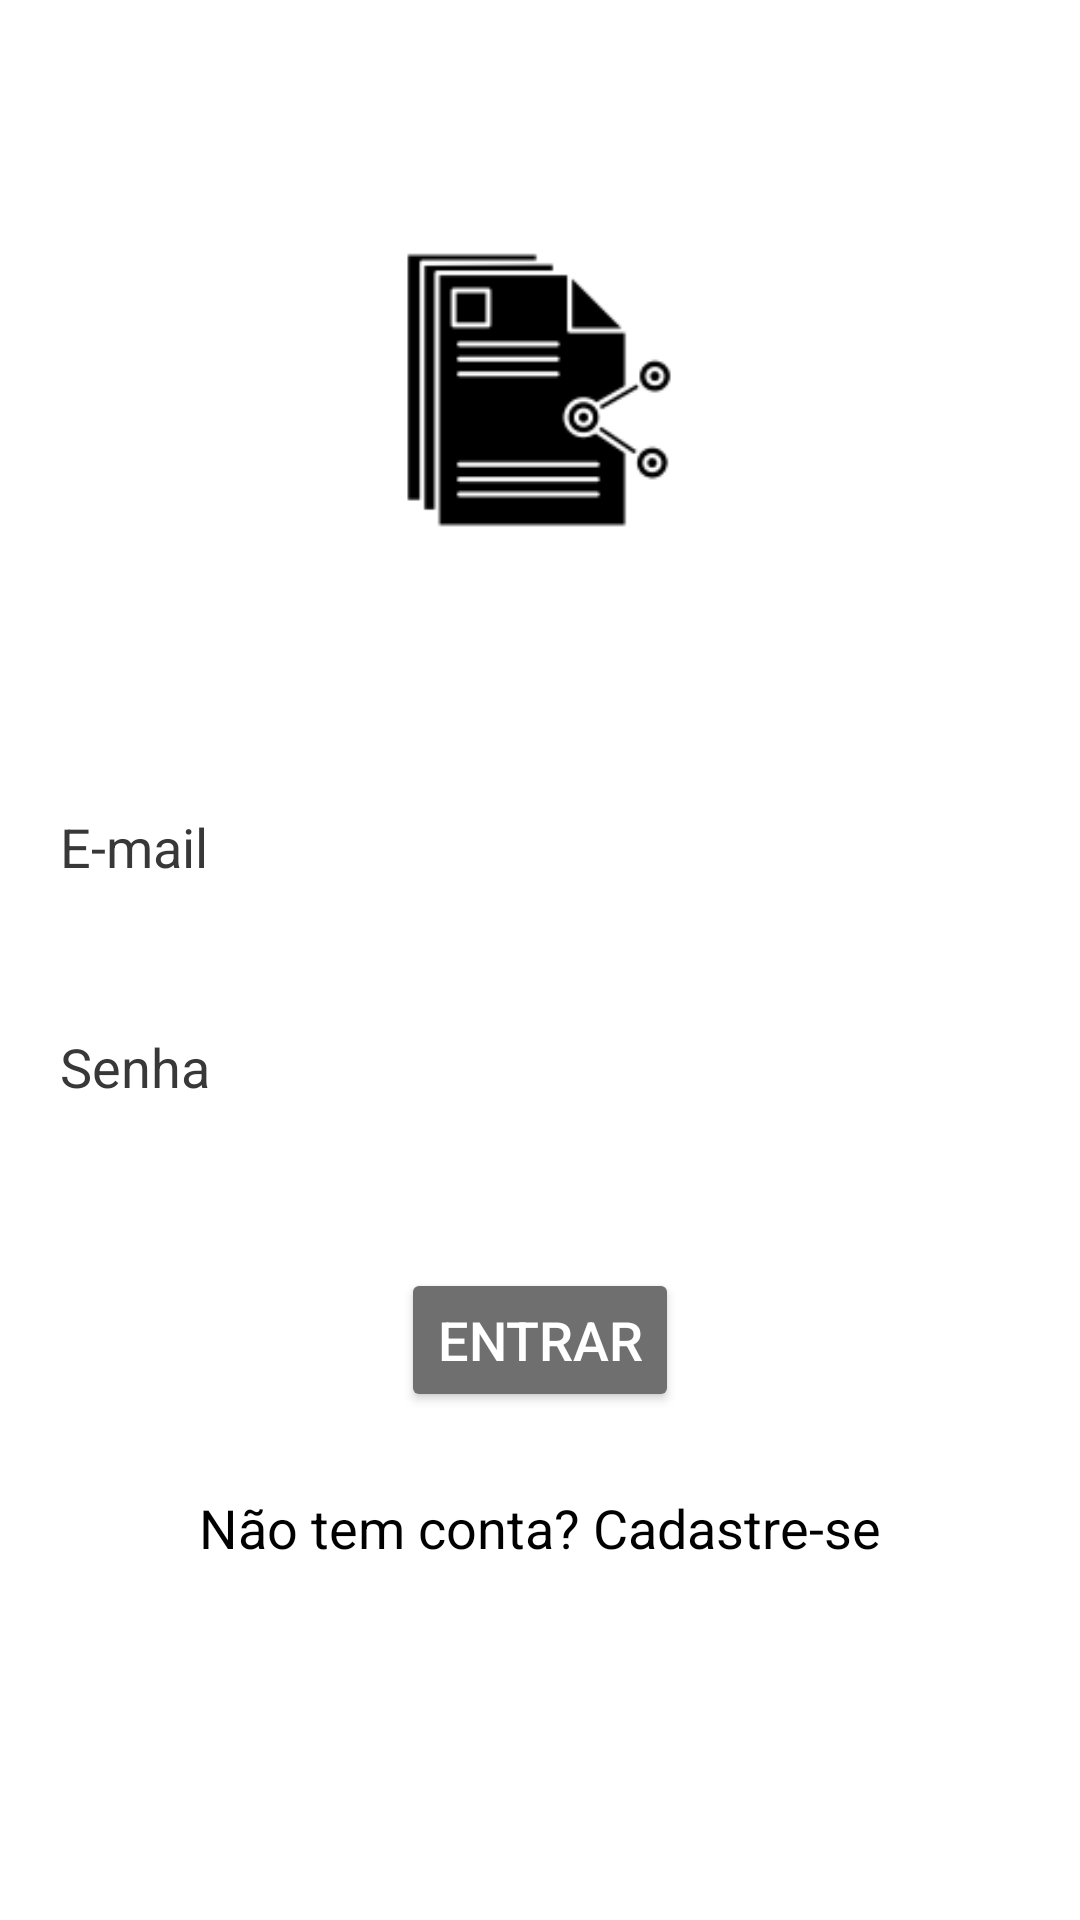

Screen size 1080x1920. Icon name, then its box in pixels as (x1, y1, x2, y2):
share documents: (407, 253, 671, 527)
